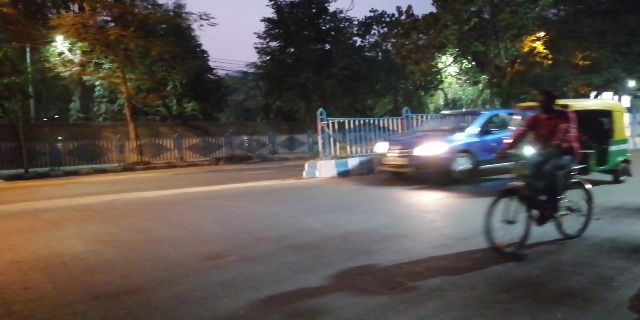Car: (370, 104, 491, 173)
Cycle: (491, 99, 598, 253)
